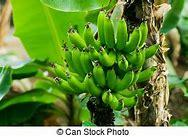banana: (57, 7, 150, 110)
